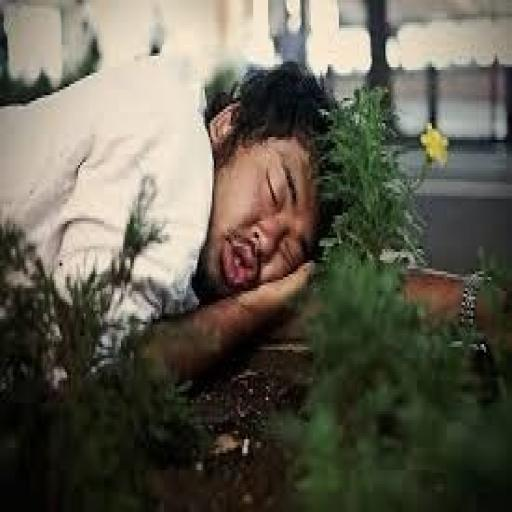sleeping: (2, 50, 508, 400)
